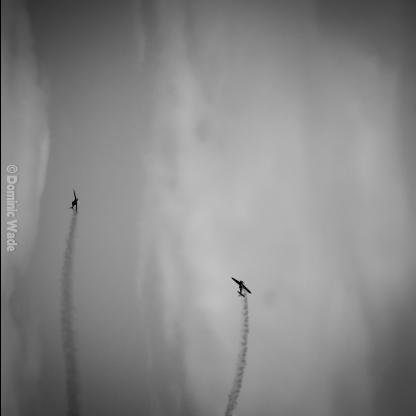aircraft: (231, 277, 252, 297), (69, 190, 79, 213)
